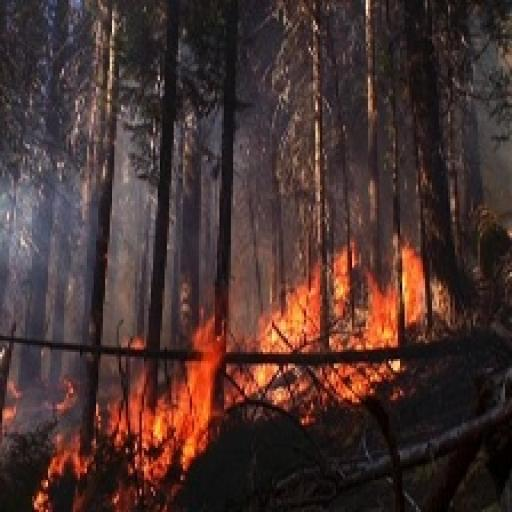fire and smoke: (112, 320, 217, 478), (261, 272, 315, 352), (347, 279, 395, 345), (327, 363, 379, 398), (405, 247, 423, 325), (242, 363, 274, 389), (334, 251, 347, 311)
